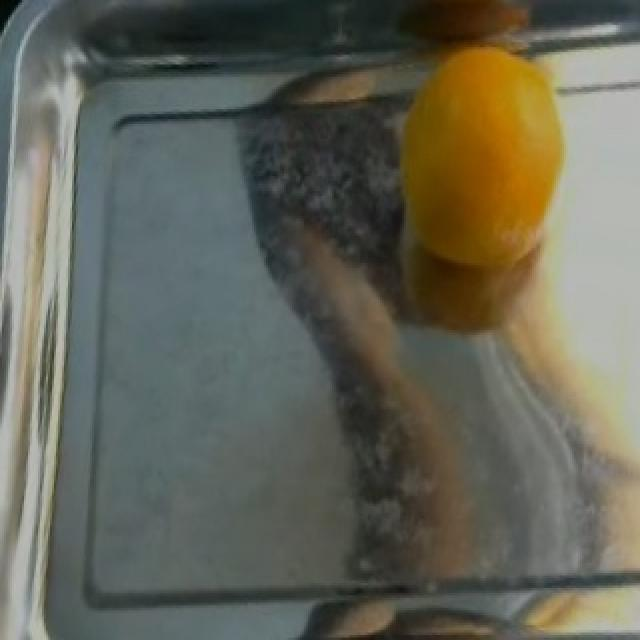Fruit: (370, 15, 590, 290)
